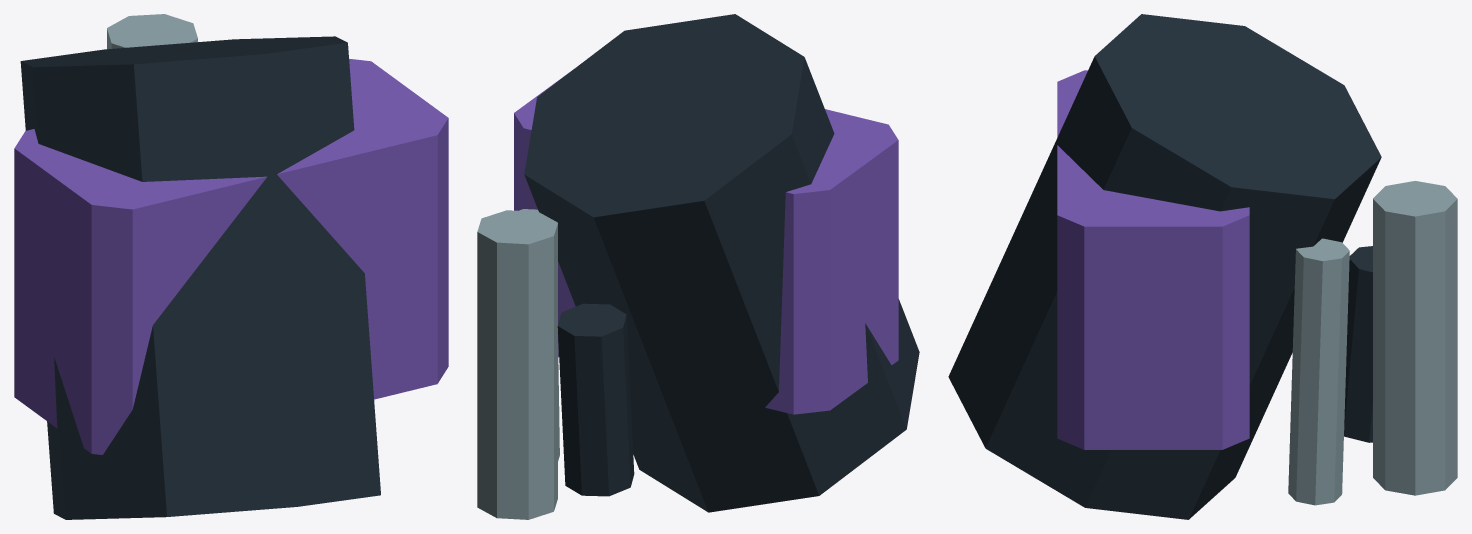
File: enemy_tank_thigh_l.obj
3 renders of one model, left to right at view 1: azimuth 30°, elevation 25°; view 2: azimuth 150°, elevation 25°; view 3: azimuth 270°, elevation 25°, orthographic. The views are drawn at different scales.
Size of the model in its own units: 0.5035 by 0.6346 by 0.6615.
